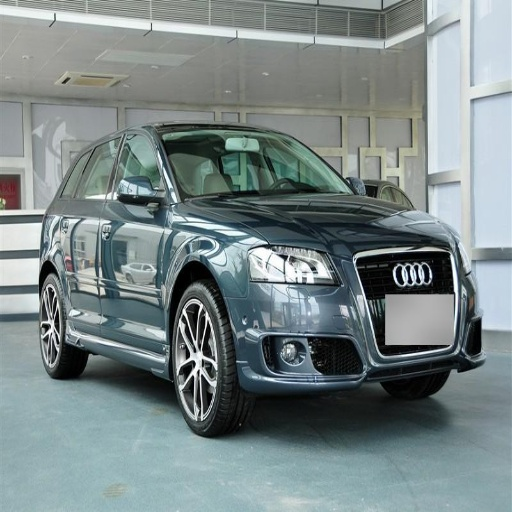_background_: (362, 317, 473, 378)
back_left_light: (62, 136, 122, 332)
back_right_light: (227, 270, 380, 392)
front_bumper: (172, 132, 341, 200)
front_left_light: (100, 132, 165, 339)
front_right_door: (250, 238, 339, 286)
front_right_light: (197, 197, 323, 233)
right_mirror: (325, 198, 460, 342)
trunk: (171, 284, 252, 434), (40, 263, 86, 378)
